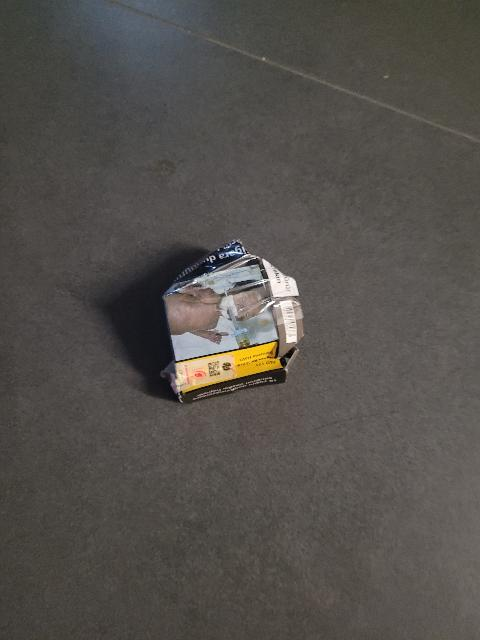Plastik: (148, 226, 322, 432)
